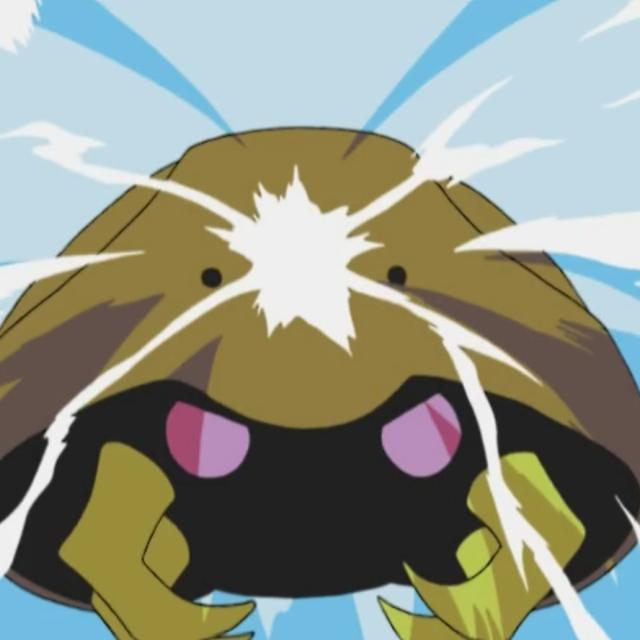Kabuto: (0, 108, 618, 640)
